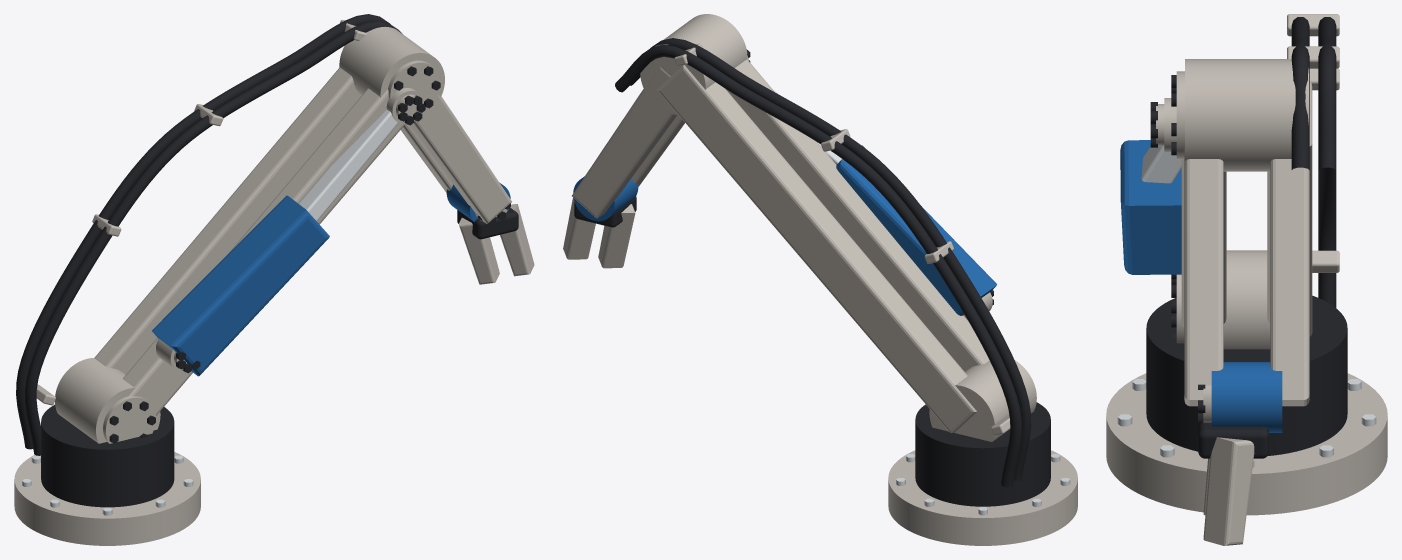
The model's file is anatomy-35.glb.
3 views of the same model, side by side, from view 1: azimuth 30°, elevation 25°; view 2: azimuth 150°, elevation 25°; view 3: azimuth 270°, elevation 25° (orthographic). The views are drawn at different scales.
Visible parts, largest first — view 1: links, base, hoses, barrel, pivots, jaws, rod, mounts, hose-clips, wrist; view 2: links, base, hoses, pivots, barrel, jaws, hose-clips, wrist; view 3: base, links, pivots, hoses, barrel, jaws, wrist, hose-clips, rod, mounts.
Boxes of the visible parts, left/top/right/bottom form: links: left=94, top=67, right=511, bottom=415; base: left=14, top=404, right=200, bottom=545; hoses: left=16, top=14, right=402, bottom=455; barrel: left=152, top=195, right=329, bottom=376; pivots: left=55, top=26, right=444, bottom=443; jaws: left=457, top=204, right=534, bottom=284; rod: left=299, top=110, right=398, bottom=221; mounts: left=156, top=88, right=425, bottom=373; hose-clips: left=36, top=20, right=366, bottom=405; wrist: left=446, top=182, right=510, bottom=225; links: left=572, top=59, right=989, bottom=432; base: left=888, top=402, right=1077, bottom=545; hoses: left=615, top=38, right=1031, bottom=487; pivots: left=640, top=14, right=1036, bottom=441; barrel: left=836, top=145, right=996, bottom=315; jaws: left=563, top=196, right=636, bottom=268; hose-clips: left=674, top=43, right=1010, bottom=435; wrist: left=573, top=176, right=638, bottom=221; base: left=1106, top=295, right=1387, bottom=515; links: left=1181, top=81, right=1312, bottom=406; pivots: left=1171, top=59, right=1308, bottom=349; hoses: left=1291, top=17, right=1336, bottom=307; barrel: left=1120, top=140, right=1181, bottom=274; jaws: left=1198, top=422, right=1268, bottom=545; wrist: left=1198, top=362, right=1282, bottom=432; hose-clips: left=1287, top=14, right=1339, bottom=272; rod: left=1141, top=146, right=1181, bottom=183; mounts: left=1150, top=98, right=1176, bottom=151.
Size of the model in its own units: 2.6 by 2 by 0.84.
